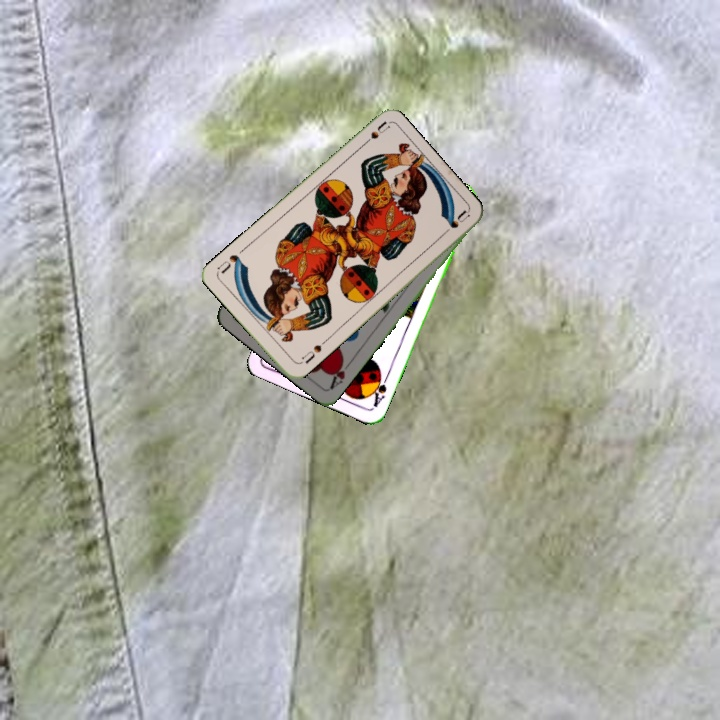HA: (326, 354, 355, 392)
SA: (367, 369, 391, 410)
SU: (356, 118, 391, 151), (295, 336, 329, 367)
